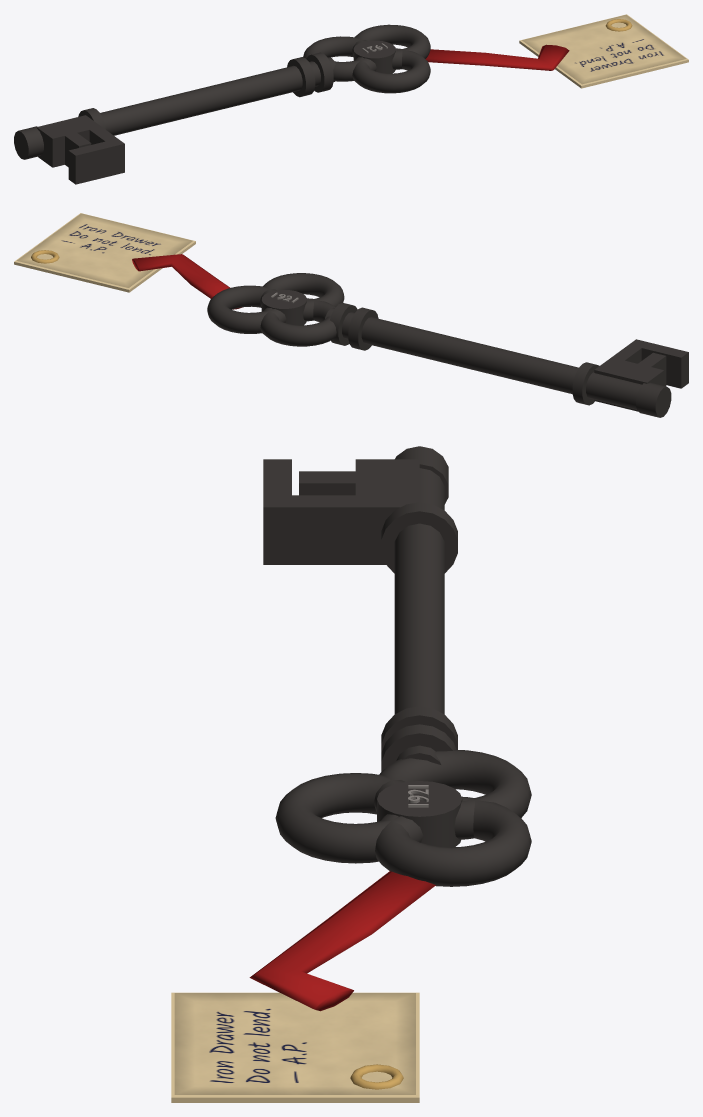
The model's file is iron_key.fbx.
3 views of the same model, one above another, from view 1: azimuth 30°, elevation 25°; view 2: azimuth 150°, elevation 25°; view 3: azimuth 270°, elevation 25° (orthographic). The views are drawn at different scales.
Parts seen in each view (by area): view 1: iron_key; view 2: iron_key; view 3: iron_key.
Boxes of the visible parts, x1,y1,x2,y2 form: iron_key: (14, 14, 688, 184); iron_key: (14, 213, 688, 417); iron_key: (171, 446, 531, 1102).
Size of the model in its own units: 0.197 by 0.0115 by 0.0508.
